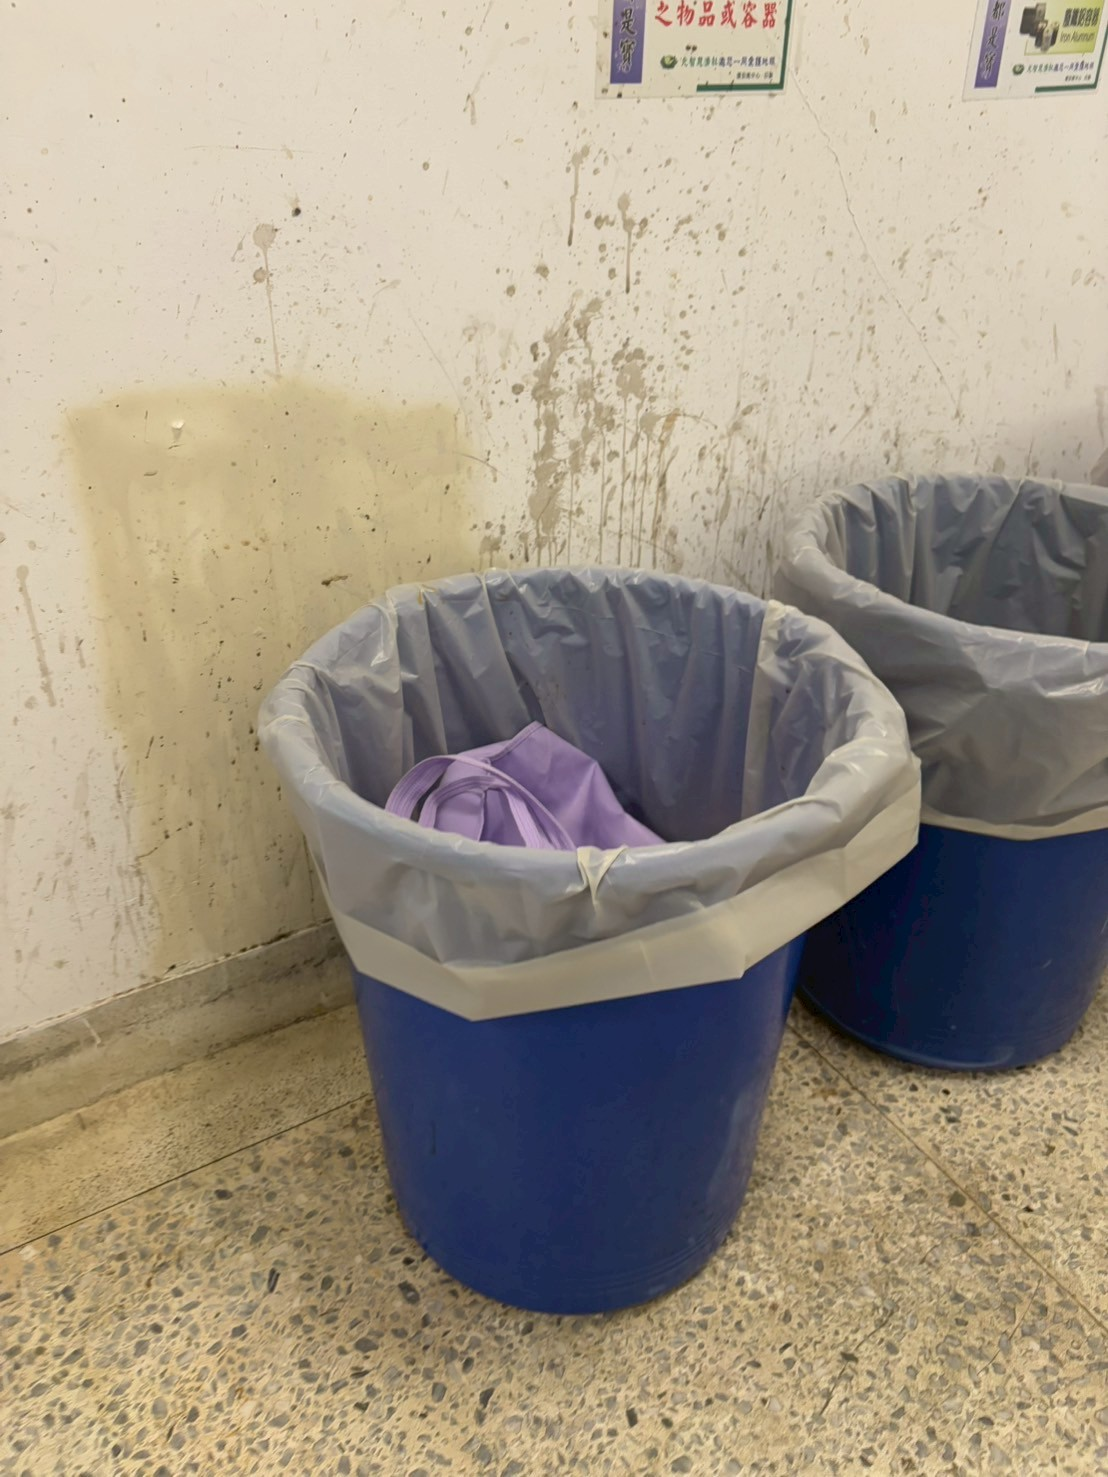overflow_bin: (222, 535, 960, 1352)
